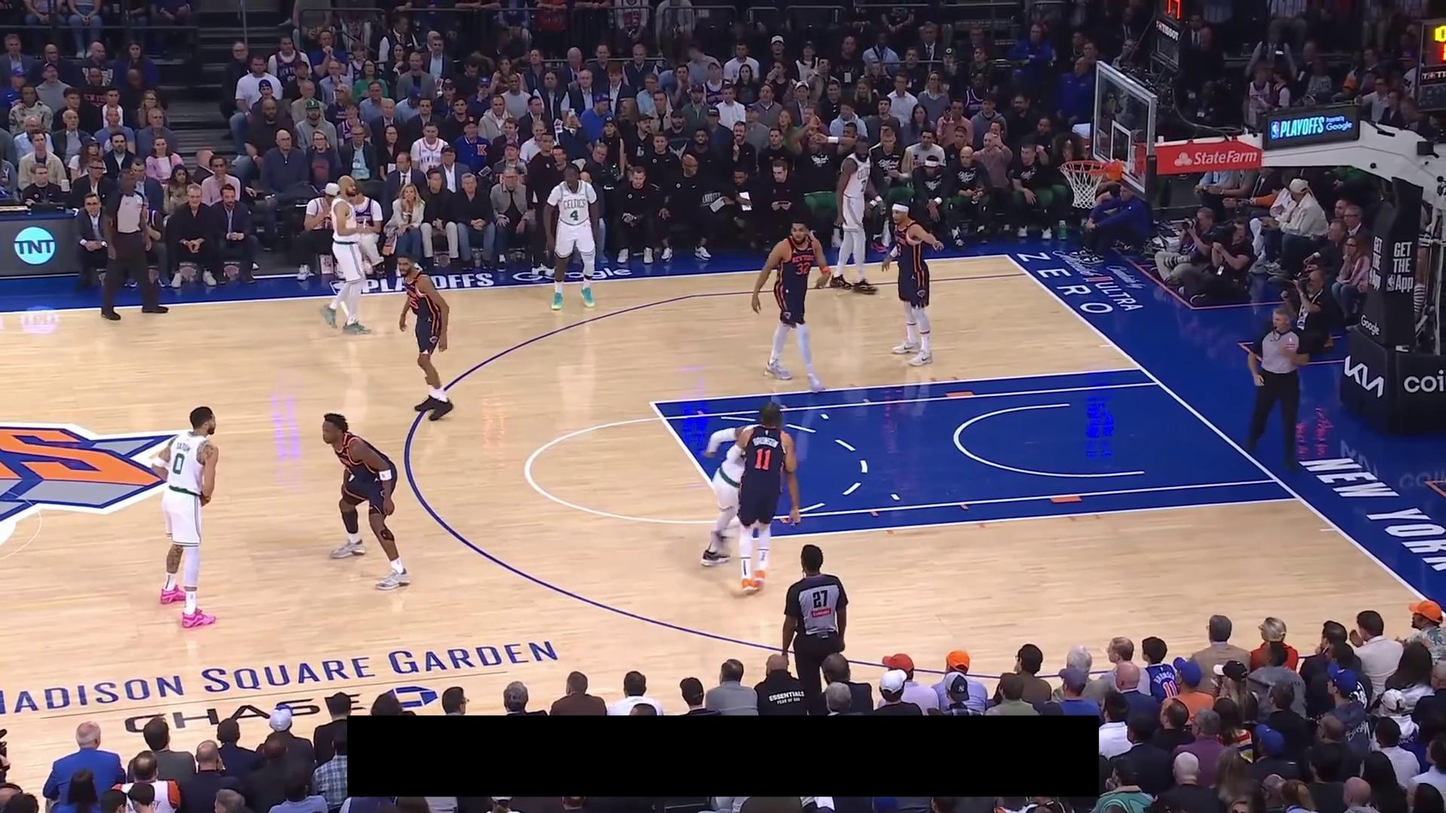number: (754, 447, 772, 471), (172, 452, 185, 475), (795, 260, 811, 276), (407, 293, 417, 309), (569, 209, 579, 222), (860, 178, 868, 193)
player: (148, 404, 221, 631), (321, 412, 412, 592), (723, 398, 803, 598), (750, 218, 833, 395), (880, 199, 946, 367), (397, 251, 456, 422), (319, 175, 381, 336), (698, 424, 765, 568), (541, 163, 602, 312), (828, 135, 880, 295)
referee: (1243, 306, 1310, 468), (99, 172, 170, 321), (781, 544, 850, 690)
rim: (1059, 160, 1108, 175)
